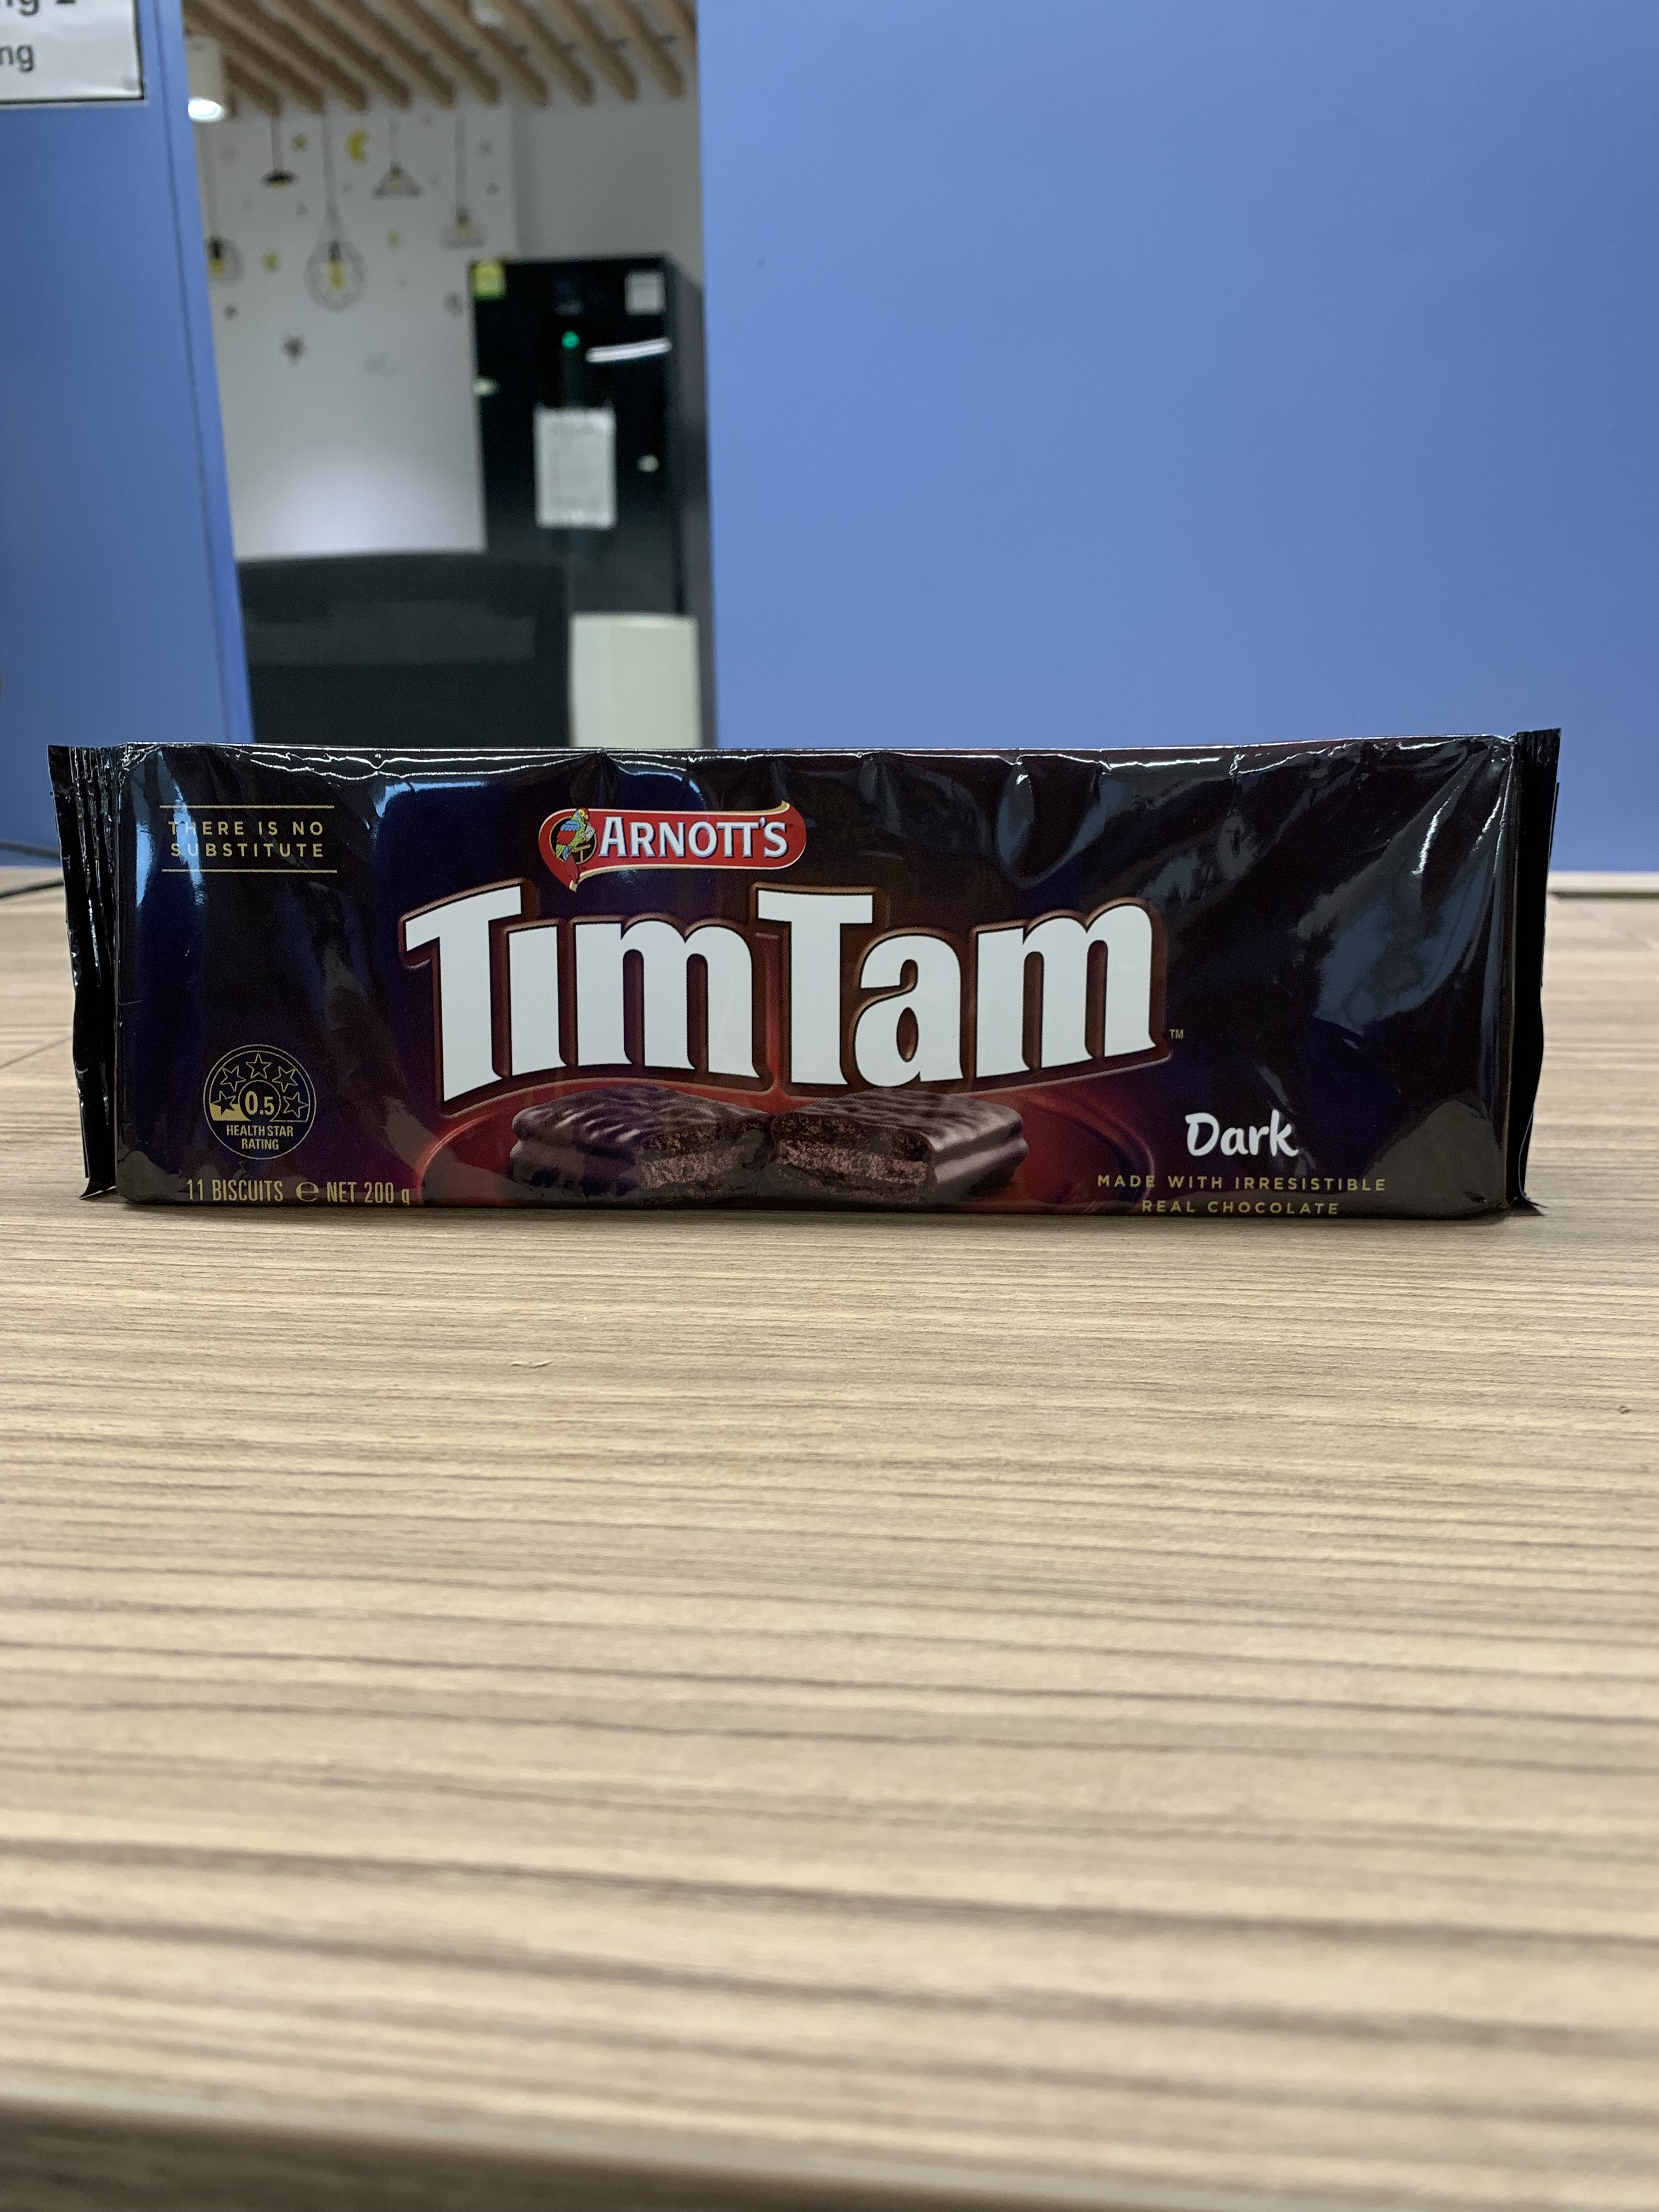cookies_200g-299g: (112, 745, 1490, 1223)
